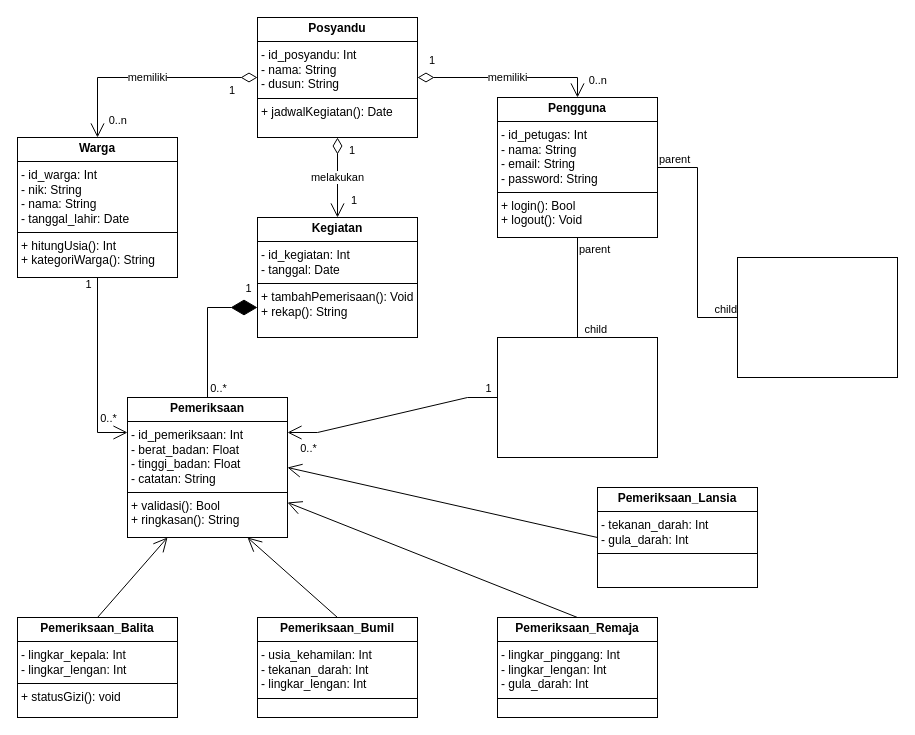
Some shapes in this 915 by 735 pixel diagram are drawn without their labels. Each missing label, with the centre of its shape:
"Admin + kelolaPengguna(): Void + kelolaPosyandu(): Void" belongs at [817,317].
"Kader + catatPemeriksaan(): Void + daftarkanWarga(): Void" belongs at [577,397].
